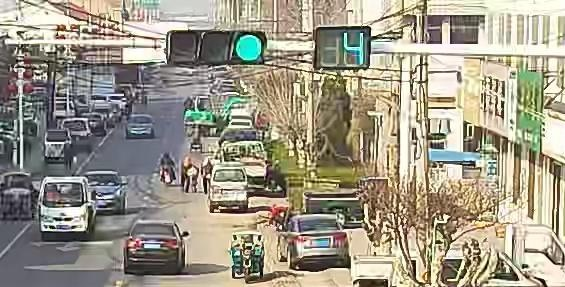green: (235, 32, 263, 63)
greentime: (340, 29, 369, 64)
